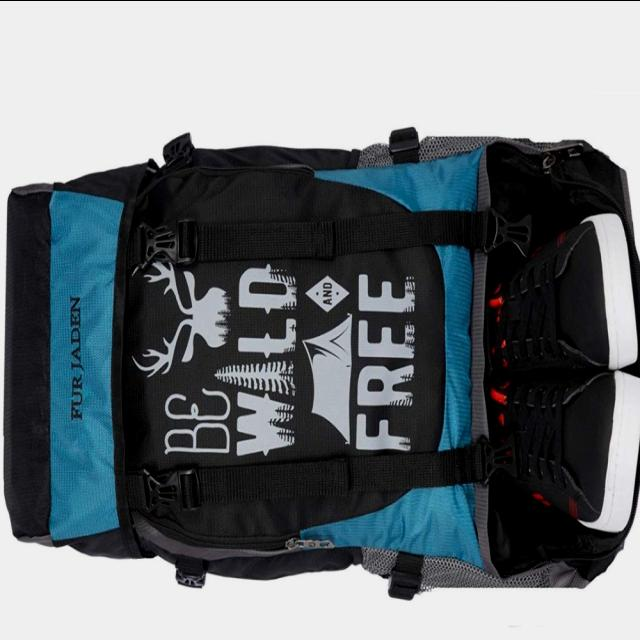backpack: (4, 129, 640, 599)
